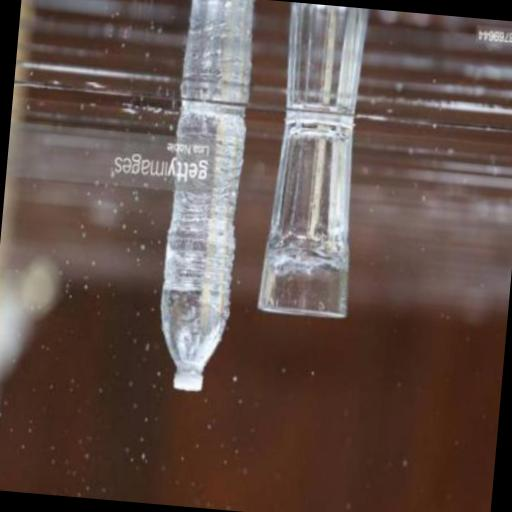Coca: (145, 95, 254, 404)
